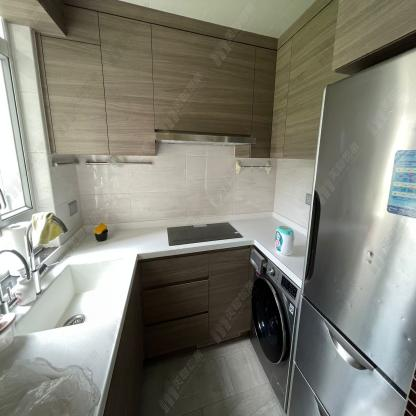Cupboard: (46, 2, 334, 158), (139, 246, 251, 356)
Exhaust Hood: (155, 130, 259, 145)
Faucet: (23, 212, 67, 287)
Fridge: (295, 49, 415, 413)
Sink: (46, 262, 106, 328)
Stove: (167, 223, 244, 247)
Washing Machine: (250, 246, 300, 410)
